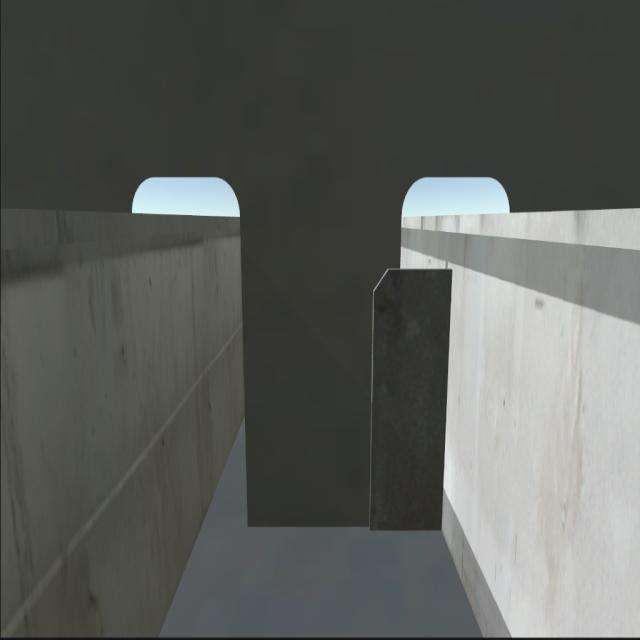fillet_yong_jeop_jang: (241, 515, 454, 537)
longi_yong_jeop_jang: (434, 268, 458, 530)
plate_CP03: (373, 269, 445, 532)
